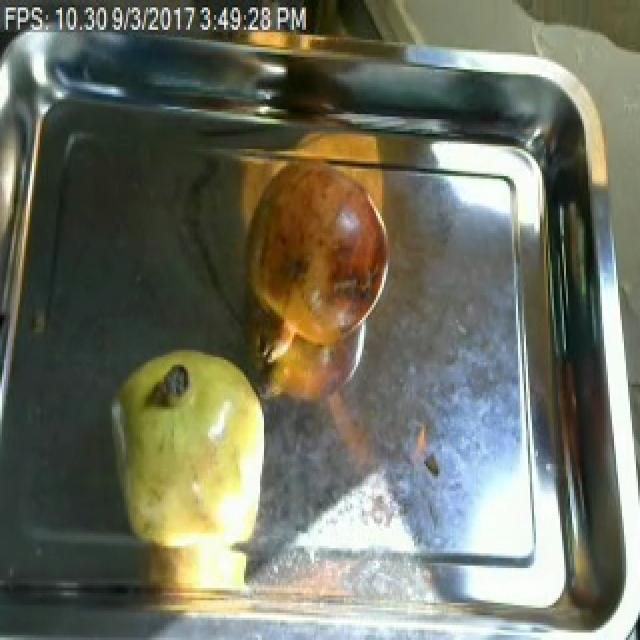fruit: (96, 332, 280, 573), (238, 149, 398, 360)
